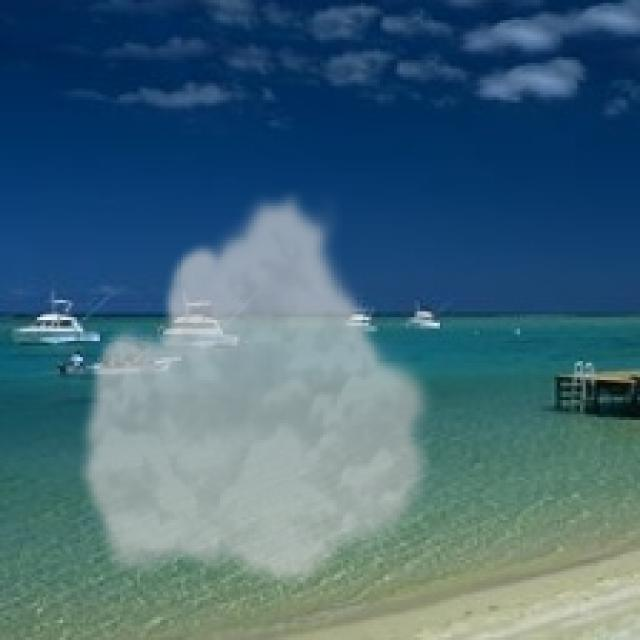smoke: (74, 188, 440, 588)
